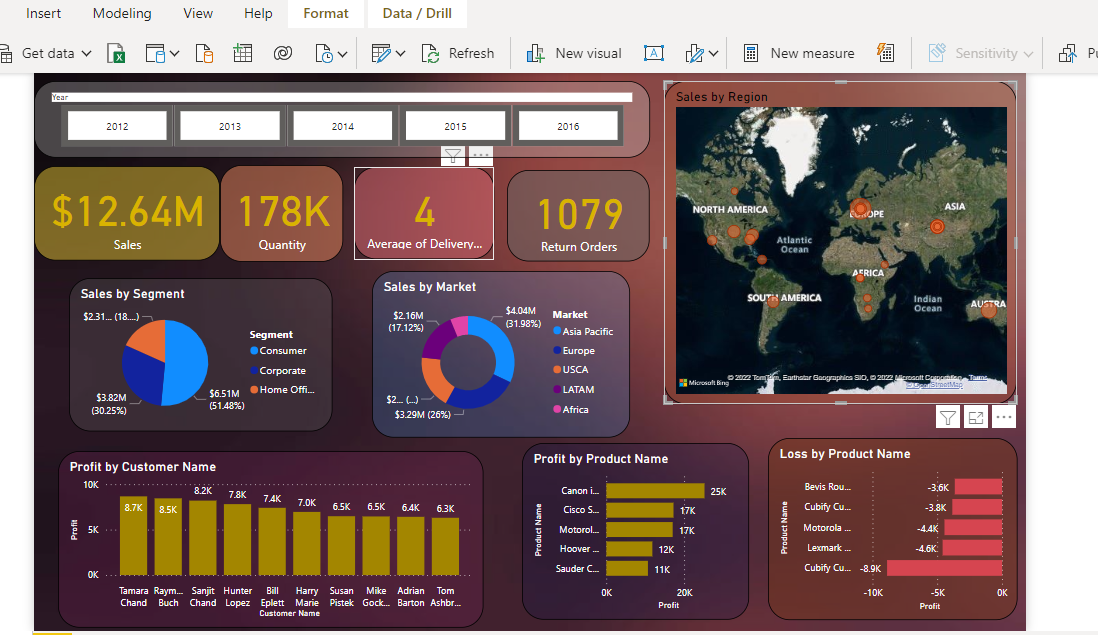

The dashboard page shown, as its layout file describes it:
{"tool":"powerbi","page":{"name":"Page 1","canvas":[1280,720],"ordinal":0},"visuals":[{"type":"card","fields":{"Values":["Orders.Sales"]},"box":[0,120.5,239.5,121.9],"z":0},{"type":"card","fields":{"Values":["Orders.Quantity"]},"box":[239.5,119.1,158.7,124.7],"z":1000},{"type":"card","fields":{"Values":["Orders.Delivery Days"]},"box":[412.4,121.9,181.4,119.1],"z":2000},{"type":"slicer","fields":{"Values":["Orders.Year"]},"box":[0,9.9,795.1,99.2],"z":3000},{"type":"card","fields":{"Values":["Returns.Return Orders"]},"box":[610.9,124.7,184.3,117.6],"z":4000},{"type":"map","fields":{"Category":["Orders.Region"],"Size":["Orders.Sales"]},"box":[813.5,9.9,455,416.7],"z":5000},{"type":"clusteredBarChart","fields":{"Y":["Orders.Profit"],"Category":["Orders.Product Name"]},"box":[629.3,477.6,293.4,228.2],"z":6000},{"type":"clusteredBarChart","title":"Loss by Product Name","fields":{"Y":["Orders.Profit"],"Category":["Orders.Product Name"]},"box":[946.8,470.6,321.7,235.3],"z":7000},{"type":"pieChart","fields":{"Category":["Orders.Segment"],"Y":["Orders.Sales"]},"box":[45.4,265,340.2,198.4],"z":8000},{"type":"donutChart","fields":{"Category":["Orders.Market"],"Y":["Orders.Sales"]},"box":[436.5,255.1,333.1,215.4],"z":9000},{"type":"columnChart","fields":{"Category":["Orders.Customer Name"],"Y":["Orders.Profit"]},"box":[31.2,487.6,548.5,228.2],"z":10000}]}

Visuals, with their boxes on the page's 1280x720 design canvas (x1, y1, x2, y2). These are canvas units, not pixel positions in the 1098x635 screenshot, which may show the page scaled, cropped or inside an application window:
card - Orders.Sales: pyautogui.locateOnScreen(0, 120, 240, 242)
card - Orders.Quantity: pyautogui.locateOnScreen(240, 119, 398, 244)
card - Orders.Delivery Days: pyautogui.locateOnScreen(412, 122, 594, 241)
slicer - Orders.Year: pyautogui.locateOnScreen(0, 10, 795, 109)
card - Returns.Return Orders: pyautogui.locateOnScreen(611, 125, 795, 242)
map - Orders.Region x Orders.Sales: pyautogui.locateOnScreen(814, 10, 1268, 427)
clusteredBarChart - Orders.Profit x Orders.Product Name: pyautogui.locateOnScreen(629, 478, 923, 706)
"Loss by Product Name" clusteredBarChart: pyautogui.locateOnScreen(947, 471, 1268, 706)
pieChart - Orders.Segment x Orders.Sales: pyautogui.locateOnScreen(45, 265, 386, 463)
donutChart - Orders.Market x Orders.Sales: pyautogui.locateOnScreen(436, 255, 770, 470)
columnChart - Orders.Customer Name x Orders.Profit: pyautogui.locateOnScreen(31, 488, 580, 716)
